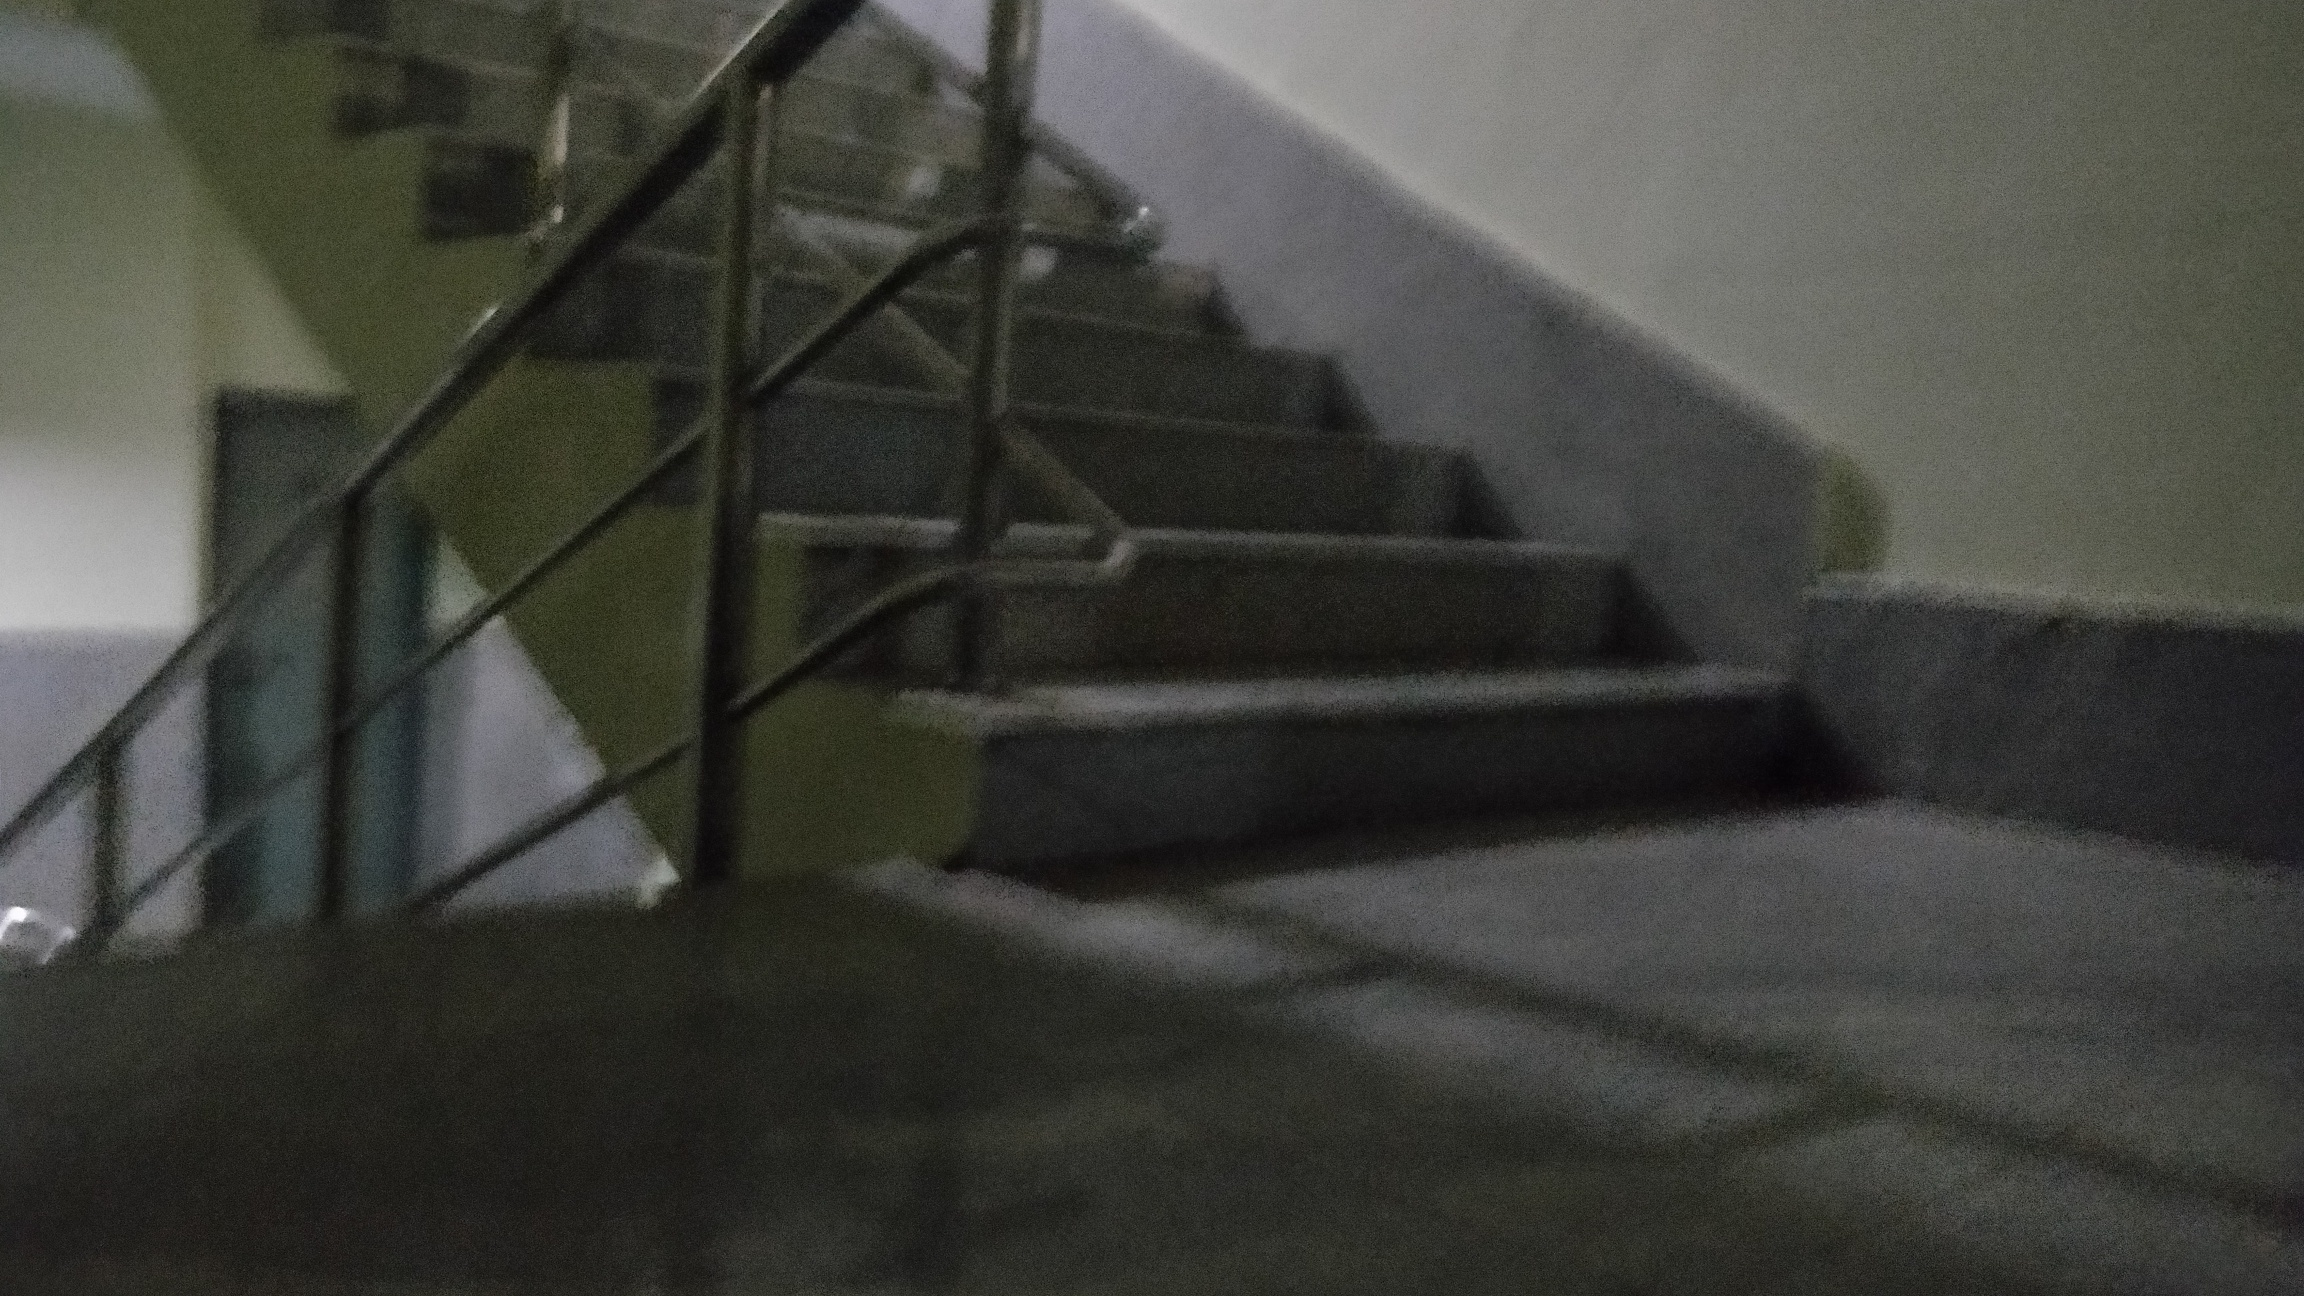stairs_up: (494, 30, 1801, 853)
